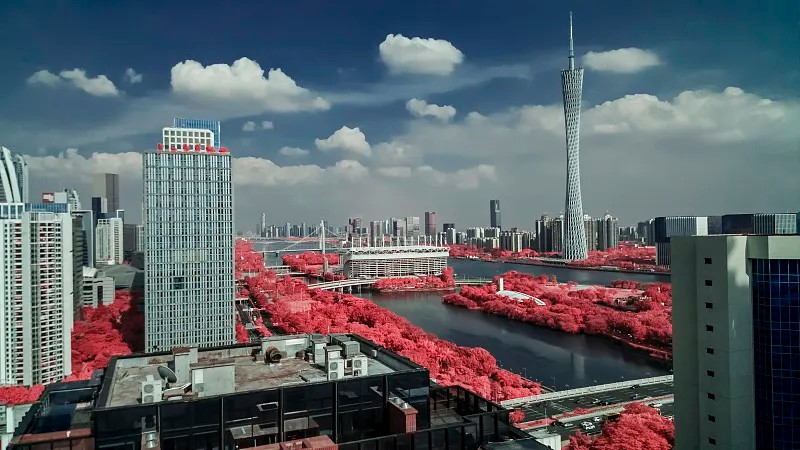Canton: (560, 10, 585, 259)
